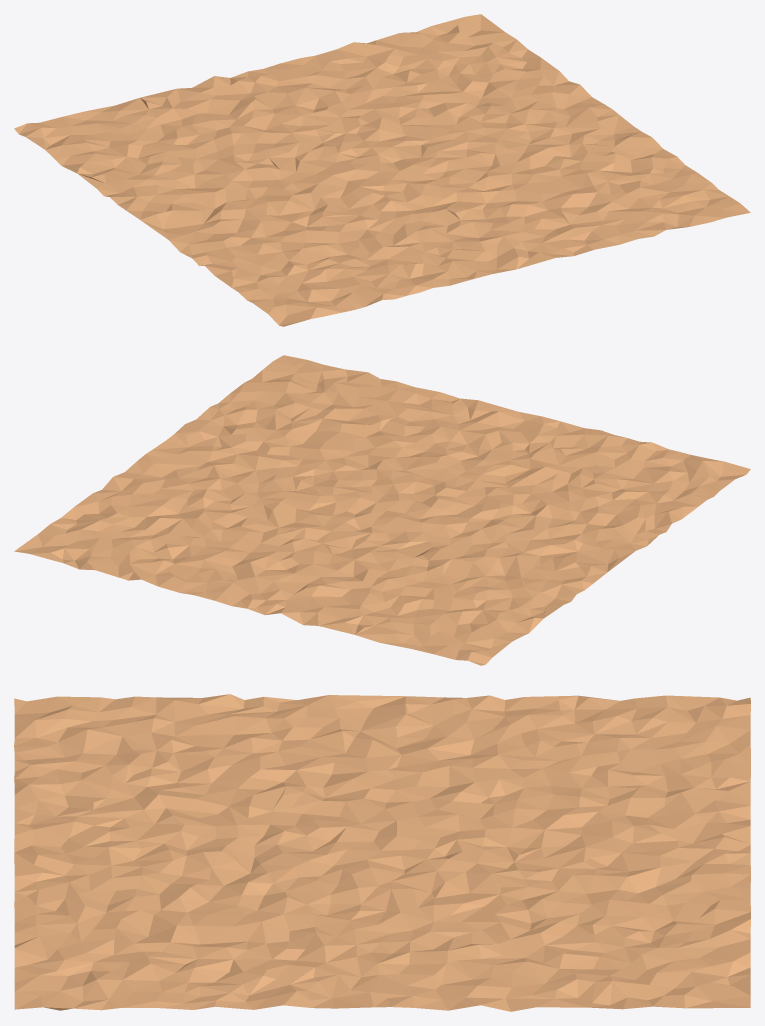
File: sidewalk2.fbx
3 views of the same model, one above another, from view 1: azimuth 30°, elevation 25°; view 2: azimuth 150°, elevation 25°; view 3: azimuth 270°, elevation 25° (orthographic). The views are drawn at different scales.
Parts seen in each view (by area): view 1: Plane.001; view 2: Plane.001; view 3: Plane.001.
Boxes of the visible parts, left/top/right/bottom form: Plane.001: left=14, top=14, right=750, bottom=326; Plane.001: left=14, top=355, right=750, bottom=665; Plane.001: left=14, top=694, right=750, bottom=1011.
Size of the model in its own units: 12949 by 220 by 12952.
